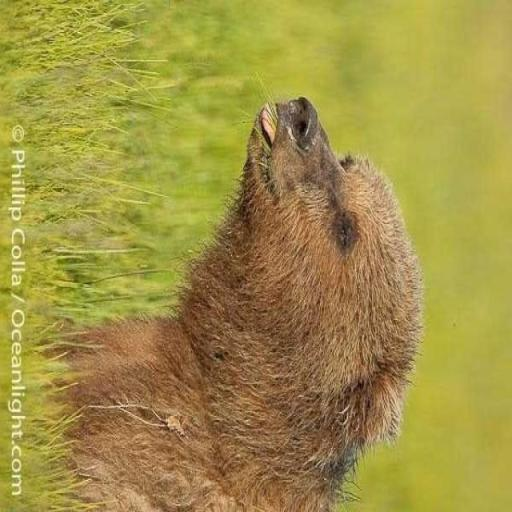Bear: (32, 87, 425, 511)
